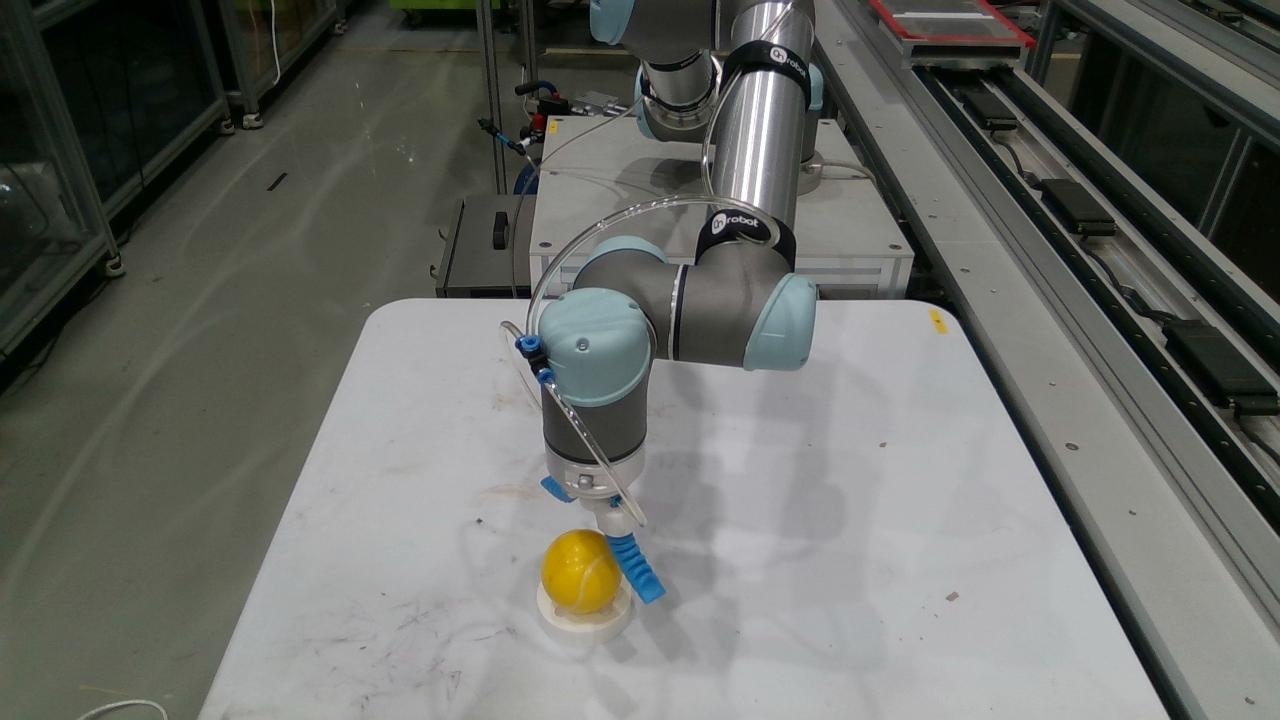UR5: (538, 0, 824, 537)
gripper_left: (540, 476, 575, 503)
gripper_right: (605, 533, 665, 603)
target: (541, 529, 622, 614), (536, 583, 634, 648)
